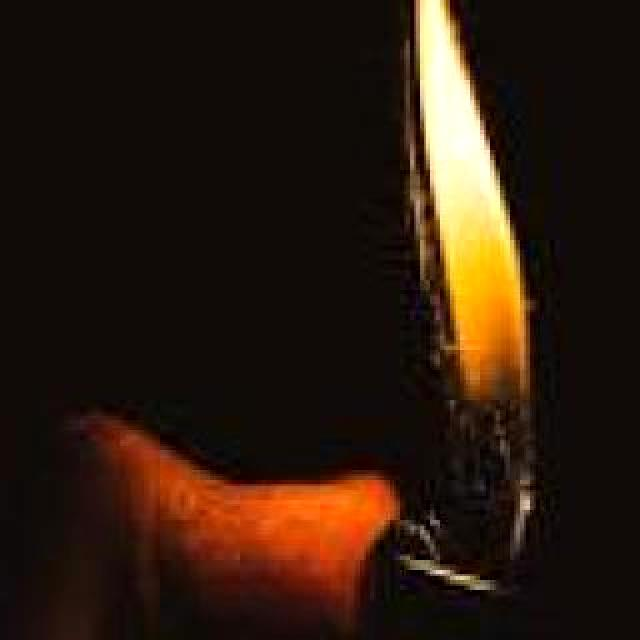fire: (404, 0, 530, 582)
